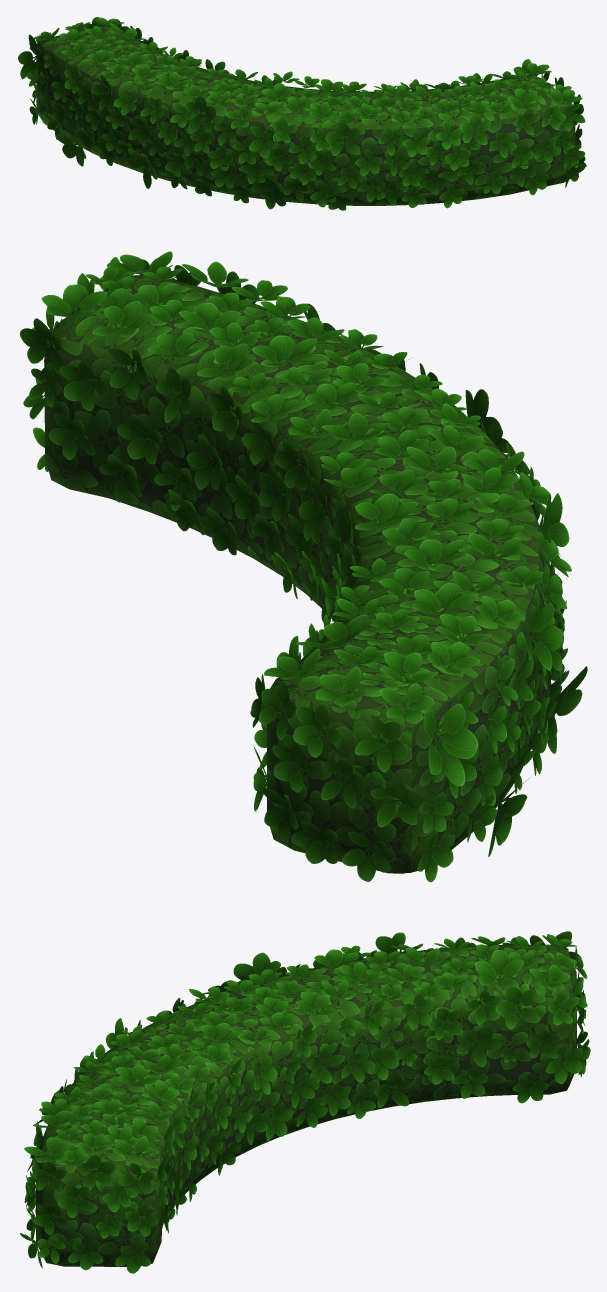
The model's file is SE_Hedge_08.fbx.
The picture shows the model from 3 angles, top to bottom: view 1: azimuth 30°, elevation 25°; view 2: azimuth 150°, elevation 25°; view 3: azimuth 270°, elevation 25°; orthographic projection. The views are drawn at different scales.
Parts seen in each view (by area): view 1: SE_Hedge_08; view 2: SE_Hedge_08; view 3: SE_Hedge_08.
Boxes of the visible parts, x1,y1,x2,y2 form: SE_Hedge_08: (18, 17, 586, 210); SE_Hedge_08: (20, 251, 587, 882); SE_Hedge_08: (20, 931, 590, 1273).
Bounding box in the file's own units: 9.79 × 2.98 × 9.89.
